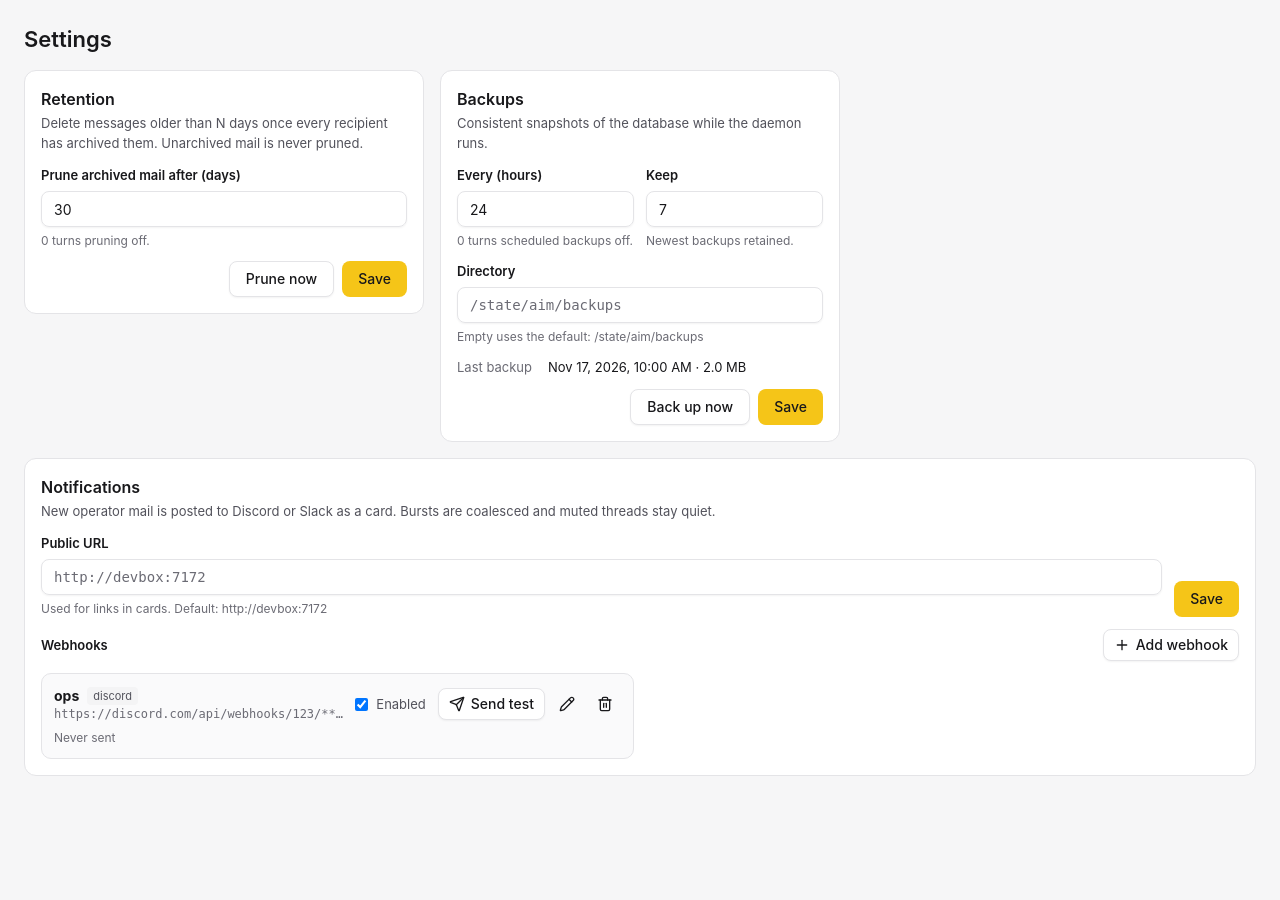
Scenario: SettingsPage › shows the result of Send test
The width and height of the screenshot is (1280, 900).
What coordinates should you click on to do the following:
click the button "Send test"
I would click on:
 (491, 704)
Its box is 438,688 -> 545,720.
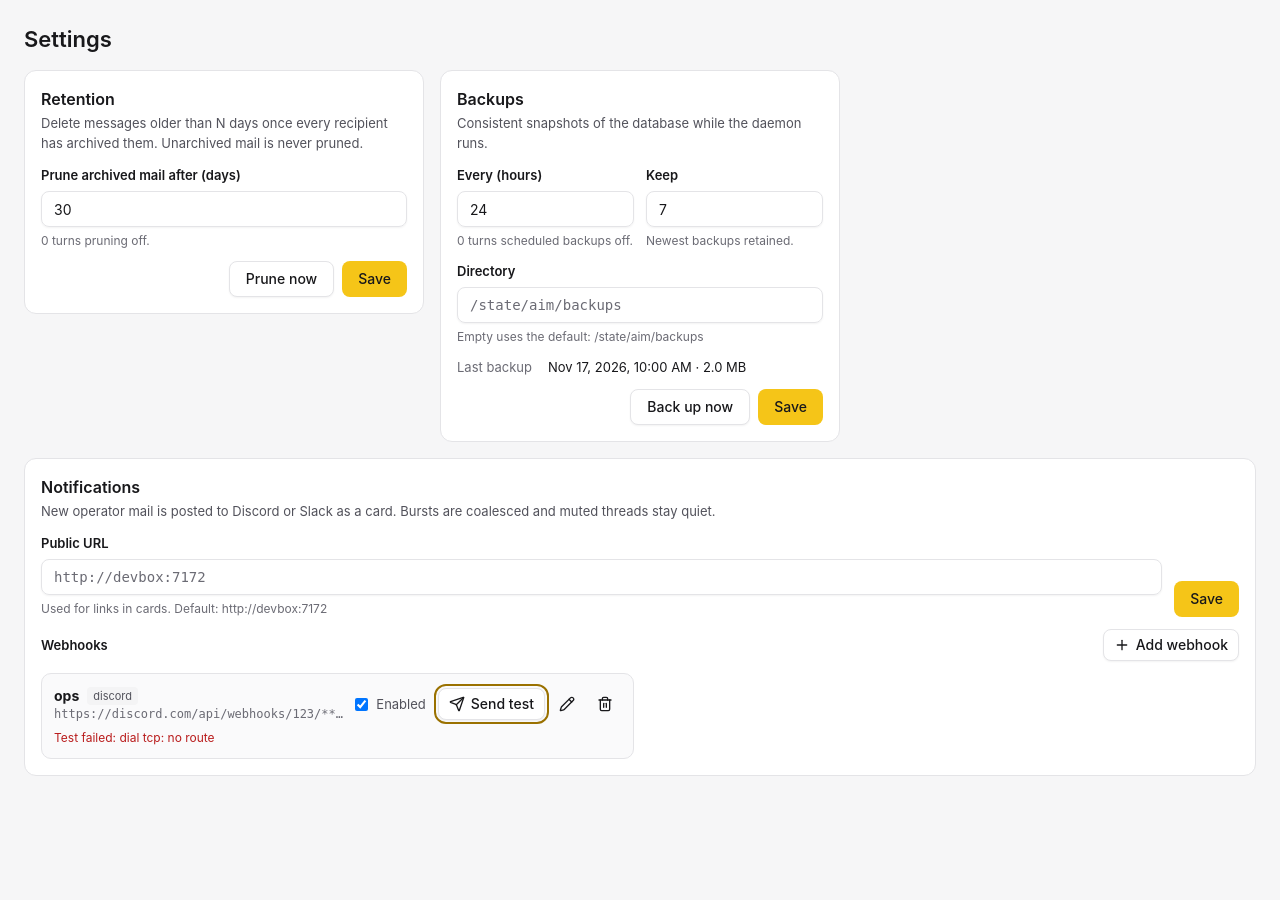
Result: the message reads "Test failed: dial tcp: no route" at 54,730 -> 215,745
